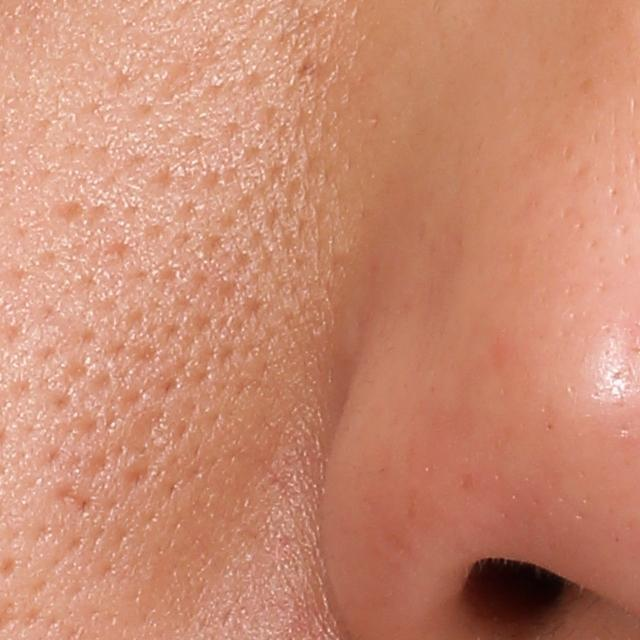atrophic_scar: (47, 482, 99, 520), (49, 193, 90, 224)
